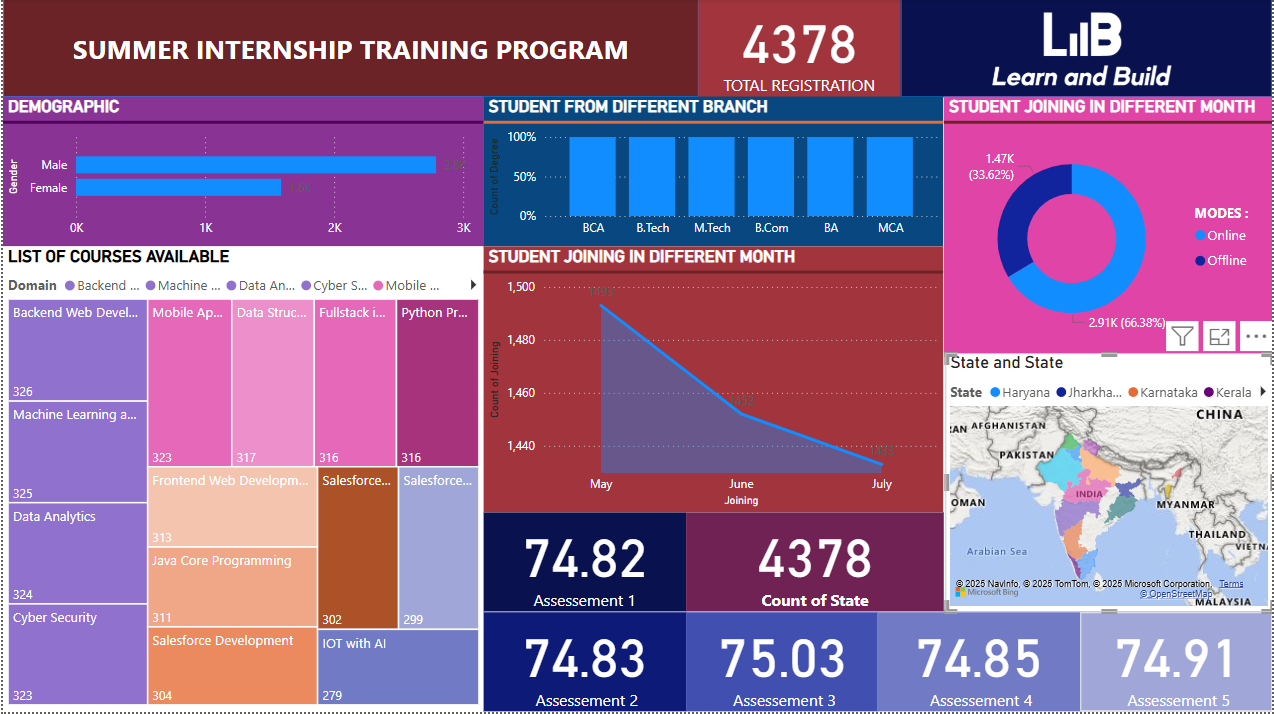

The page's visual inventory and layout, read from the dashboard file:
{"tool":"powerbi","page":{"name":"Page 1","canvas":[1280,720],"ordinal":0},"visuals":[{"type":"shape","box":[0,0,702.1,100],"z":0},{"type":"card","fields":{"Values":["Accounts.TOTAL_REG"]},"box":[702.1,0,204.3,100],"z":1000},{"type":"shape","box":[906.4,0,374.5,100],"z":2000},{"type":"image","box":[900,0,376.6,100],"z":3000},{"type":"barChart","title":"DEMOGRAPHIC","fields":{"Category":["Student Record.Gender"],"Y":["CountNonNull(Student Record.Gender)"]},"box":[0,100,485.1,151.1],"z":4000},{"type":"treemap","title":"LIST OF COURSES AVAILABLE","fields":{"Group":["landb5.Domain"],"Values":["CountNonNull(landb5.Domain)"]},"box":[0,251.1,485.1,468.1],"z":5000},{"type":"card","fields":{"Values":["Avg(landb5.Assessement 2)"]},"box":[485.1,619.1,204.3,100],"z":6000},{"type":"card","fields":{"Values":["Avg(landb5.Assessement 3)"]},"box":[689.4,619.1,193.6,100],"z":7000},{"type":"card","fields":{"Values":["Avg(landb5.Assessement 4)"]},"box":[883,619.1,204.3,100],"z":8000},{"type":"card","fields":{"Values":["Avg(landb5.Assessement 5)"]},"box":[1087.2,619.1,193.6,100],"z":9000},{"type":"card","fields":{"Values":["Avg(landb5.Assessement 1)"]},"box":[485.1,519.1,204.3,100],"z":10000},{"type":"hundredPercentStackedColumnChart","title":"STUDENT FROM DIFFERENT BRANCH","fields":{"Category":["Student Record.Degree"],"Y":["CountNonNull(Student Record.Degree)"]},"box":[485.1,100,463.8,151.1],"z":11000},{"type":"areaChart","title":"STUDENT JOINING IN DIFFERENT MONTH","fields":{"Category":["landb5.Joining"],"Y":["CountNonNull(landb5.Joining)"]},"box":[485.1,251.1,463.8,268.1],"z":12000},{"type":"donutChart","title":"STUDENT JOINING IN DIFFERENT MONTH","fields":{"Category":["landb5.Mode"],"Y":["CountNonNull(landb5.Mode)"]},"box":[948.9,100,331.9,259.6],"z":13000},{"type":"card","fields":{"Values":["CountNonNull(State.State)"]},"box":[689.5,519.3,259.6,100],"z":14000},{"type":"filledMap","fields":{"Category":["State.State"],"Series":["State.State"]},"box":[950.1,358.6,331,260.5],"z":14001}]}

Visuals, with their boxes in screenshot pixels (x1, y1, x2, y2), scaled from the page's 1280x720 canvas onto the 1274x714 screenshot:
shape: 0/0/699/99
card - Accounts.TOTAL_REG: 699/0/902/99
shape: 902/0/1273/99
image: 896/0/1271/99
"DEMOGRAPHIC" barChart: 0/99/483/249
"LIST OF COURSES AVAILABLE" treemap: 0/249/483/713
card - Avg(landb5.Assessement 2): 483/614/686/713
card - Avg(landb5.Assessement 3): 686/614/879/713
card - Avg(landb5.Assessement 4): 879/614/1082/713
card - Avg(landb5.Assessement 5): 1082/614/1273/713
card - Avg(landb5.Assessement 1): 483/515/686/614
"STUDENT FROM DIFFERENT BRANCH" hundredPercentStackedColumnChart: 483/99/944/249
"STUDENT JOINING IN DIFFERENT MONTH" areaChart: 483/249/944/515
"STUDENT JOINING IN DIFFERENT MONTH" donutChart: 944/99/1273/357
card - CountNonNull(State.State): 686/515/945/614
filledMap - State.State x State.State: 946/356/1273/614
